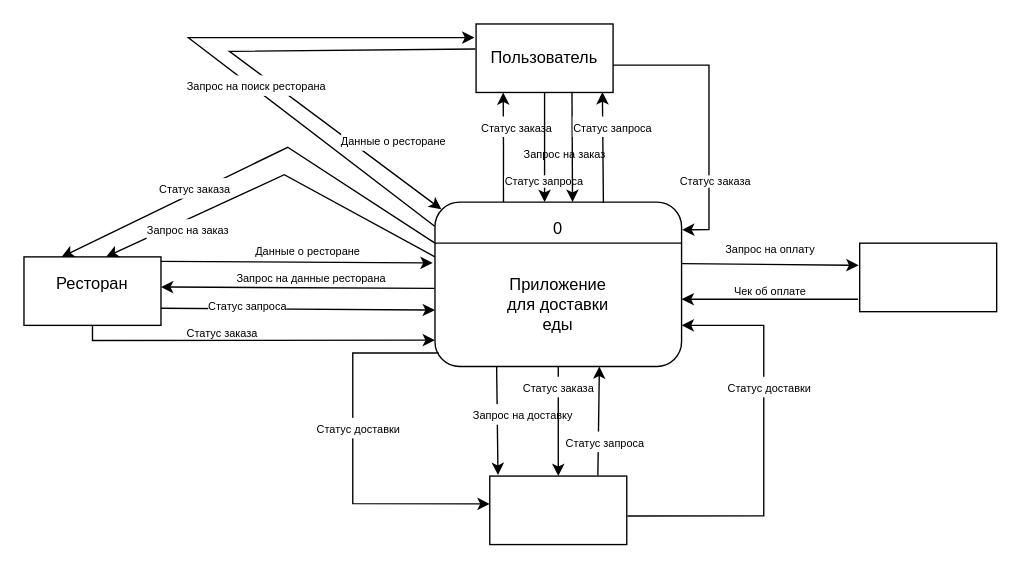
Image size: 1021x569. Some labels were removed from this diagram. The centre of each missing label's shape, as x and y in pixels:
"Курьер" belongs at (x=557, y=510).
"Платежная система" belongs at (x=927, y=277).
